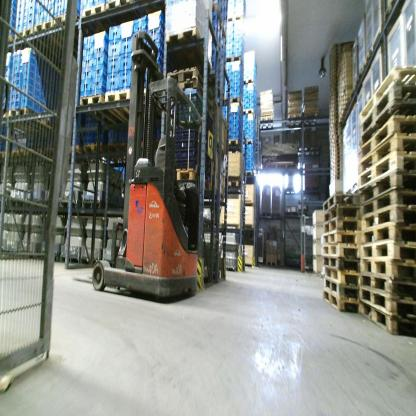forklift: (98, 32, 206, 303)
pallet: (360, 66, 415, 124), (357, 81, 414, 136), (357, 116, 415, 167), (359, 99, 411, 150), (359, 136, 414, 174), (75, 91, 125, 132), (361, 303, 415, 340), (360, 153, 414, 189), (360, 170, 415, 204), (359, 270, 415, 303), (361, 189, 416, 222), (359, 285, 415, 317), (7, 103, 55, 137), (169, 77, 213, 114), (101, 84, 139, 124), (166, 61, 215, 92), (359, 205, 412, 233), (362, 221, 414, 246), (359, 240, 415, 263), (173, 163, 213, 190), (361, 258, 414, 278), (33, 15, 65, 48), (80, 1, 114, 32), (53, 10, 84, 43), (324, 287, 360, 314), (325, 276, 360, 301), (322, 191, 357, 213), (322, 230, 364, 248), (83, 137, 106, 169), (323, 269, 363, 287), (322, 243, 362, 261), (324, 205, 359, 224), (325, 217, 359, 236), (110, 139, 129, 171), (322, 257, 361, 272), (107, 0, 136, 18), (14, 23, 34, 47), (81, 198, 118, 210), (58, 197, 85, 212), (64, 142, 83, 163), (9, 146, 26, 169), (382, 2, 399, 25), (37, 144, 56, 163), (227, 177, 242, 199), (265, 162, 294, 172), (286, 113, 302, 129), (258, 115, 274, 131), (79, 255, 100, 267), (227, 95, 242, 111), (224, 54, 244, 66), (214, 84, 226, 104), (294, 143, 308, 160), (303, 111, 317, 127), (8, 198, 25, 211), (227, 138, 242, 152), (243, 76, 259, 89), (307, 143, 319, 159), (1, 108, 10, 129), (243, 107, 257, 118), (364, 50, 373, 67), (60, 256, 79, 264), (328, 128, 343, 137), (329, 135, 342, 145), (329, 147, 341, 157), (329, 123, 341, 133), (329, 163, 342, 172), (329, 155, 342, 164), (244, 168, 254, 179), (330, 150, 342, 159), (330, 131, 342, 140), (1, 150, 9, 163), (329, 175, 342, 183), (331, 167, 341, 177), (245, 140, 256, 149), (330, 159, 341, 168), (327, 117, 338, 126), (330, 143, 342, 151), (330, 140, 341, 148), (327, 104, 336, 113), (328, 115, 338, 123), (330, 173, 341, 180), (329, 111, 337, 119), (329, 108, 337, 116), (328, 121, 338, 127)
small_load_carrier: (106, 21, 122, 42), (104, 40, 121, 59), (121, 19, 135, 40), (92, 51, 109, 68), (106, 56, 121, 75), (118, 72, 134, 89), (93, 63, 108, 81), (120, 38, 135, 56), (118, 55, 132, 73), (134, 26, 147, 45), (147, 29, 166, 42), (145, 20, 165, 32), (92, 77, 106, 94), (93, 30, 109, 44), (106, 75, 119, 90), (93, 41, 108, 54), (149, 10, 164, 23), (83, 53, 94, 70), (230, 104, 242, 119), (144, 68, 155, 84), (80, 80, 91, 95), (133, 15, 147, 26), (3, 64, 12, 80), (23, 48, 36, 59), (230, 62, 243, 73), (81, 68, 91, 82), (83, 37, 91, 54), (11, 50, 22, 62), (214, 60, 222, 76), (212, 18, 220, 33), (10, 92, 20, 104), (211, 31, 220, 44), (22, 58, 36, 66), (154, 41, 165, 51), (230, 131, 242, 140), (230, 88, 242, 97), (231, 74, 243, 83), (11, 77, 20, 89), (216, 43, 223, 58), (230, 125, 243, 133), (5, 52, 13, 65), (153, 61, 164, 70), (54, 5, 63, 16), (34, 16, 43, 27), (232, 70, 243, 79), (22, 66, 36, 73), (20, 81, 34, 88), (19, 100, 33, 107), (22, 73, 34, 81), (214, 52, 220, 68), (216, 29, 222, 45), (229, 119, 242, 126), (230, 116, 243, 123), (211, 43, 218, 56), (154, 51, 163, 61), (211, 11, 220, 21), (230, 81, 241, 89), (11, 66, 19, 77), (230, 136, 242, 143), (231, 45, 243, 52), (231, 39, 243, 46), (46, 10, 55, 19), (212, 0, 221, 9), (8, 28, 16, 38), (20, 88, 33, 94), (247, 90, 256, 98), (247, 102, 255, 111), (11, 73, 19, 82), (9, 8, 17, 17), (19, 94, 33, 99), (215, 77, 220, 90), (36, 12, 44, 20), (11, 87, 19, 95), (211, 56, 218, 65), (226, 29, 233, 38), (225, 68, 234, 75), (25, 1, 34, 8), (221, 3, 224, 22), (36, 5, 44, 12), (248, 97, 255, 105), (247, 117, 255, 124), (246, 122, 254, 129), (8, 17, 16, 24), (8, 21, 16, 28), (247, 86, 256, 92), (246, 154, 255, 160), (246, 165, 255, 171), (234, 33, 243, 39), (13, 58, 19, 67), (11, 1, 17, 10), (225, 90, 230, 100), (247, 143, 254, 150), (47, 4, 55, 10), (24, 19, 32, 25), (24, 8, 32, 14), (247, 128, 254, 134), (247, 134, 254, 140), (25, 14, 31, 21), (36, 1, 45, 5), (48, 0, 55, 5), (243, 91, 248, 98), (243, 84, 248, 91), (226, 38, 231, 45), (226, 45, 231, 52), (246, 150, 254, 154), (246, 161, 254, 165), (223, 108, 227, 116), (224, 15, 226, 31), (56, 1, 63, 5), (242, 124, 246, 130), (243, 117, 247, 123), (243, 97, 247, 102), (244, 102, 247, 108), (11, 0, 17, 3)
